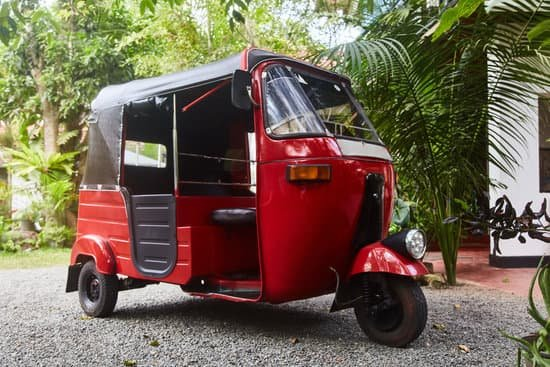threewheel: (66, 47, 430, 348)
